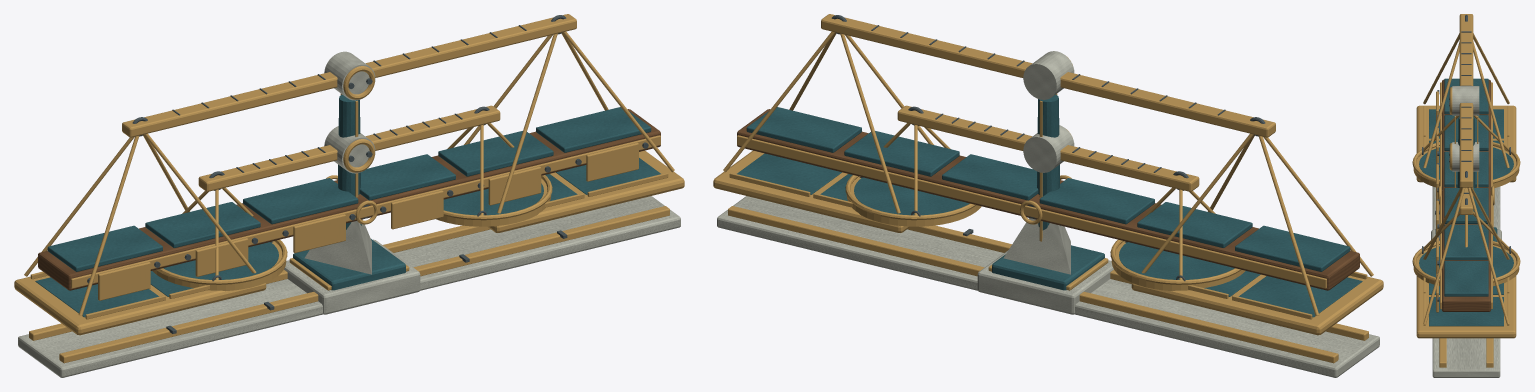
Rendered from balance-mechanisms-v01.glb.
3 renders of one model, left to right at view 1: azimuth 30°, elevation 25°; view 2: azimuth 150°, elevation 25°; view 3: azimuth 270°, elevation 25°, orthographic. The views are drawn at different scales.
Parts seen in each view (by area): view 1: LeverBeam Mechanism teal, LeverRail Mechanism stone, LeverBeam Mechanism brass, TwinLeftPan Mechanism brass, LeverRail Mechanism brass, TwinBeam Mechanism brass, TwinRightPan Mechanism brass, LeverBeam Mechanism wood, OrderBeam Mechanism brass, TwinScale Mechanism stone, OrderLeftPan Mechanism brass, TwinLeftPan Mechanism teal (+10 smaller); view 2: LeverBeam Mechanism teal, LeverRail Mechanism stone, TwinLeftPan Mechanism brass, LeverRail Mechanism brass, TwinBeam Mechanism brass, LeverBeam Mechanism wood, LeverBeam Mechanism brass, TwinRightPan Mechanism brass, TwinScale Mechanism stone, OrderBeam Mechanism brass, TwinLeftPan Mechanism teal, TwinRightPan Mechanism teal (+9 smaller); view 3: LeverBeam Mechanism teal, TwinRightPan Mechanism brass, LeverRail Mechanism stone, TwinLeftPan Mechanism brass, TwinBeam Mechanism brass, LeverBeam Mechanism wood, TwinRightPan Mechanism teal, LeverBeam Mechanism brass, OrderLeftPan Mechanism brass, OrderRightPan Mechanism brass, OrderRightPan Mechanism teal, OrderLeftPan Mechanism teal (+11 smaller).
Boxes of the visible parts, x1,y1,x2,y2 form: LeverBeam Mechanism teal: [47, 107, 651, 271]; LeverRail Mechanism stone: [18, 196, 680, 377]; LeverBeam Mechanism brass: [71, 135, 660, 300]; TwinLeftPan Mechanism brass: [14, 133, 266, 335]; LeverRail Mechanism brass: [29, 206, 669, 363]; TwinBeam Mechanism brass: [122, 14, 576, 137]; TwinRightPan Mechanism brass: [464, 31, 684, 232]; LeverBeam Mechanism wood: [38, 109, 660, 290]; OrderBeam Mechanism brass: [198, 105, 500, 191]; TwinScale Mechanism stone: [284, 51, 420, 314]; OrderLeftPan Mechanism brass: [152, 187, 287, 291]; TwinLeftPan Mechanism teal: [35, 271, 193, 317]; LeverBeam Mechanism teal: [746, 107, 1350, 271]; LeverRail Mechanism stone: [717, 196, 1379, 377]; TwinLeftPan Mechanism brass: [1131, 133, 1383, 335]; LeverRail Mechanism brass: [728, 206, 1368, 363]; TwinBeam Mechanism brass: [821, 14, 1275, 137]; LeverBeam Mechanism wood: [737, 109, 1359, 290]; LeverBeam Mechanism brass: [737, 135, 1326, 288]; TwinRightPan Mechanism brass: [713, 31, 933, 232]; TwinScale Mechanism stone: [977, 51, 1113, 314]; OrderBeam Mechanism brass: [897, 105, 1199, 191]; TwinLeftPan Mechanism teal: [1204, 271, 1362, 317]; TwinRightPan Mechanism teal: [737, 153, 852, 200]; LeverBeam Mechanism teal: [1444, 78, 1488, 296]; TwinRightPan Mechanism brass: [1416, 187, 1516, 338]; LeverRail Mechanism stone: [1432, 186, 1500, 377]; TwinLeftPan Mechanism brass: [1416, 33, 1516, 182]; TwinBeam Mechanism brass: [1459, 14, 1473, 187]; LeverBeam Mechanism wood: [1442, 79, 1490, 311]; TwinRightPan Mechanism teal: [1429, 283, 1503, 326]; LeverBeam Mechanism brass: [1436, 82, 1492, 312]; OrderLeftPan Mechanism brass: [1412, 115, 1520, 187]; OrderRightPan Mechanism brass: [1412, 211, 1520, 286]; OrderRightPan Mechanism teal: [1419, 246, 1513, 278]; OrderLeftPan Mechanism teal: [1419, 147, 1513, 179].
Size of the model in its own units: 8.9 by 3.14 by 1.75.
Materials: 5 (4 with a texture image).
